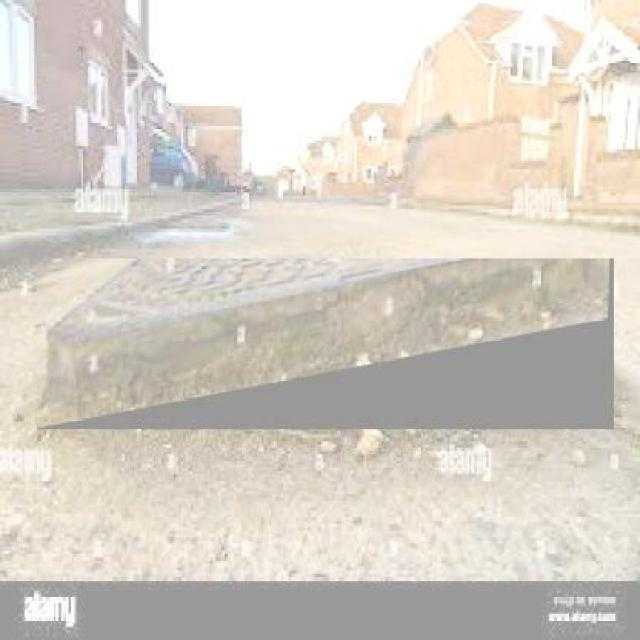Manhole: (61, 256, 638, 427)
